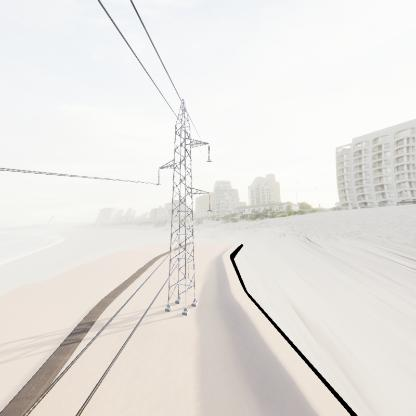tower: (152, 96, 218, 319)
